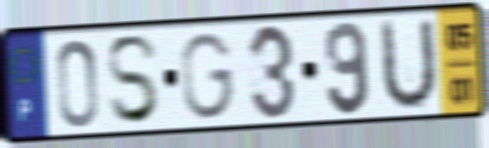0: (54, 36, 101, 131)
3: (245, 21, 298, 124)
9: (322, 18, 372, 119)
G: (178, 30, 237, 122)
S: (104, 32, 163, 129)
U: (379, 15, 440, 116)
